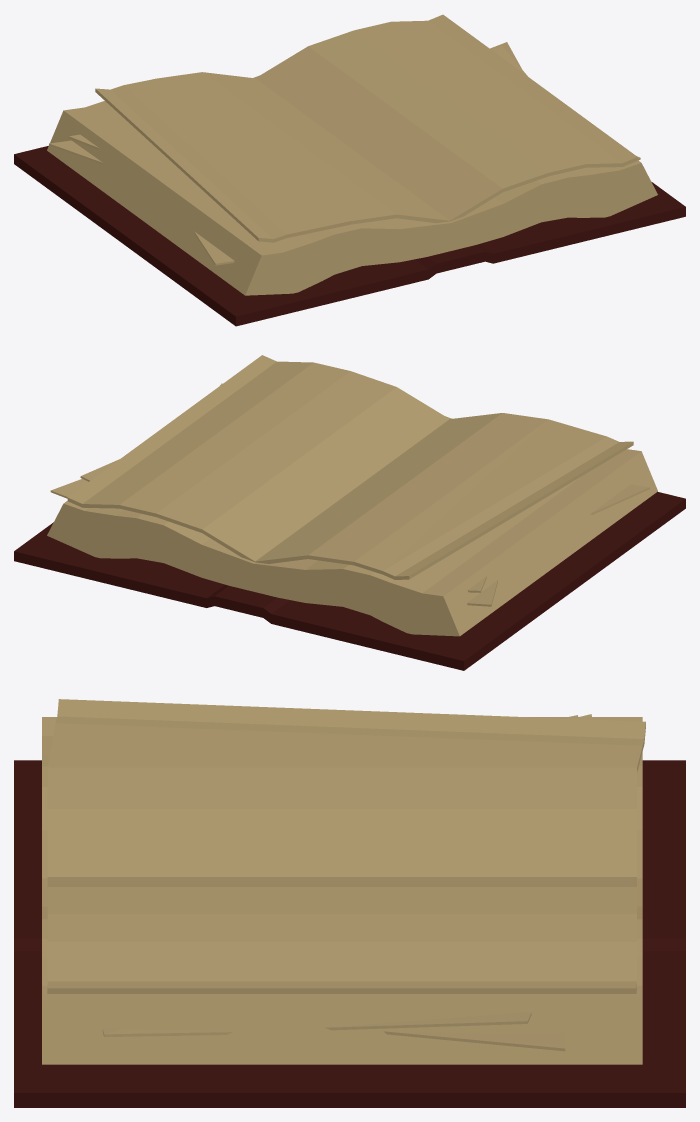
File: book1_open.glb
The picture shows the model from 3 angles, top to bottom: view 1: azimuth 30°, elevation 25°; view 2: azimuth 150°, elevation 25°; view 3: azimuth 270°, elevation 25°; orthographic projection. The views are drawn at different scales.
Visible parts, largest first — view 1: Book1_Open; view 2: Book1_Open; view 3: Book1_Open.
Part boxes in pixels (bbox=[...]): Book1_Open: bbox=[14, 14, 685, 326]; Book1_Open: bbox=[14, 355, 685, 670]; Book1_Open: bbox=[14, 699, 685, 1107].
Size of the model in its own units: 87.3 by 12.63 by 74.01.
